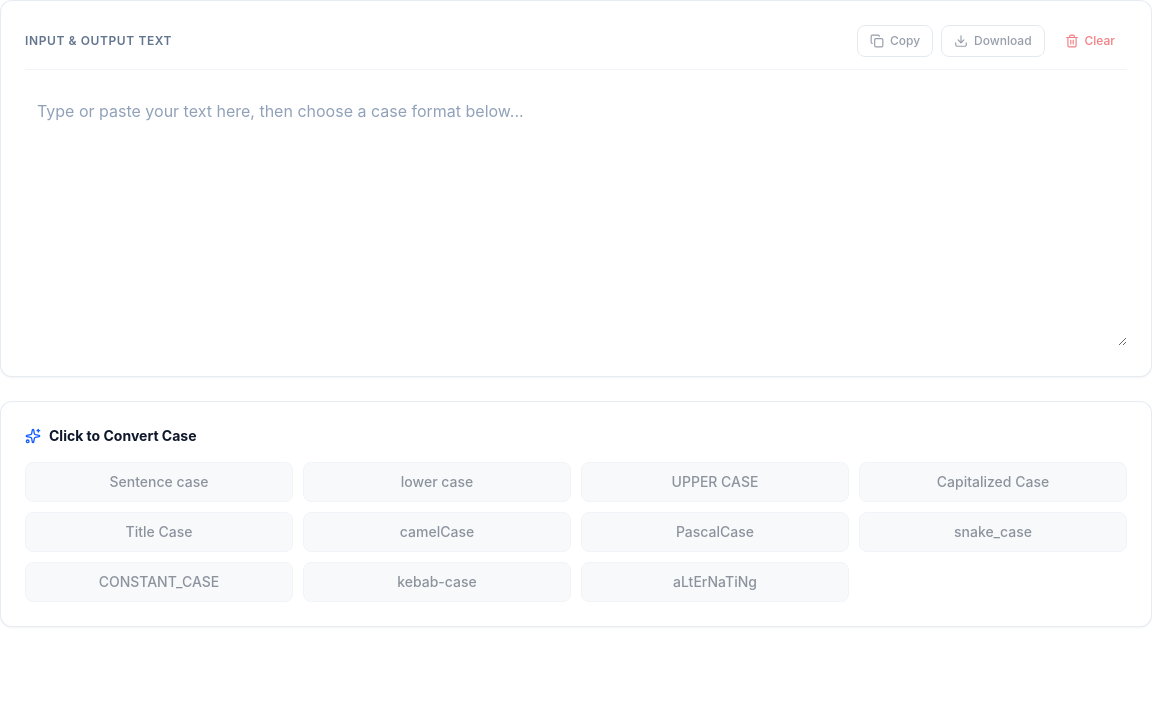
Test: TEXT & DEVELOPER TOOLS (8/8) › Case Converter › normal: converts text through multiple case formats
The image size is (1152, 720).
Replace the text in the text box named "case converter text area" with "hello world from toolbox" at {"x": 576, "y": 216}, box [25,86,1127,346]
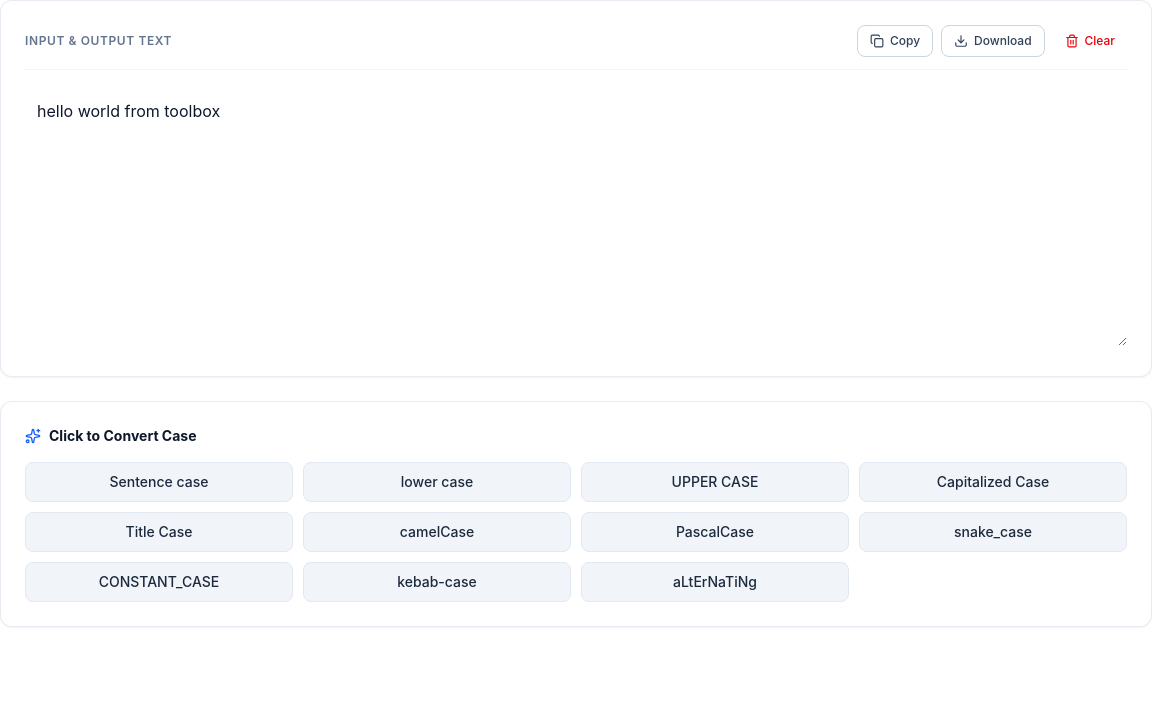
Note: UPPER CASE
Click the button "UPPER CASE".
click(715, 482)  # box [581,462,849,502]
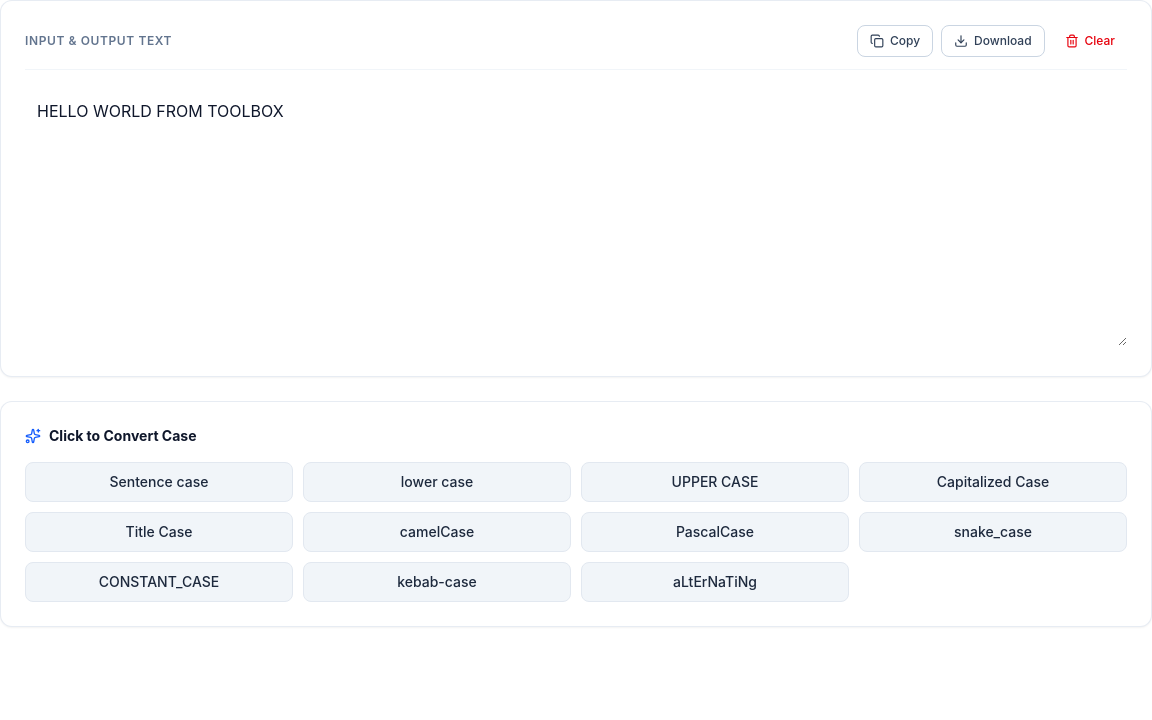
Note: lower case
Click the button "lower case".
click(437, 482)  # box [303,462,571,502]
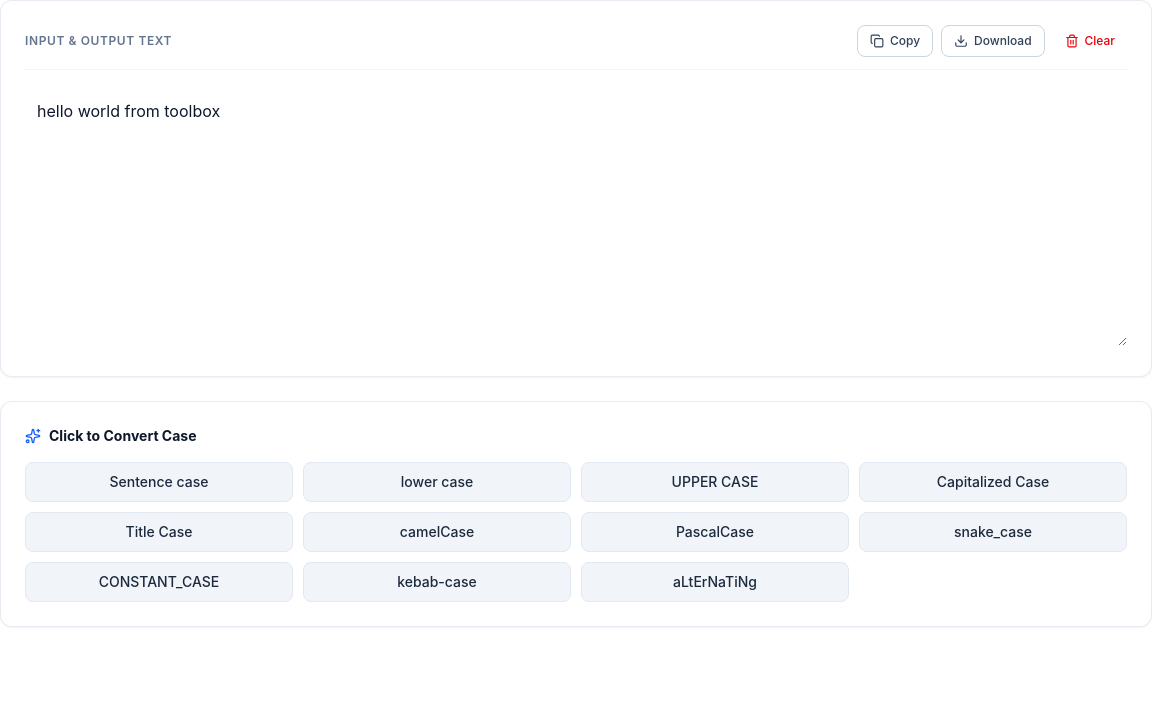
Click the button "kebab-case".
click(437, 582)  # box [303,562,571,602]
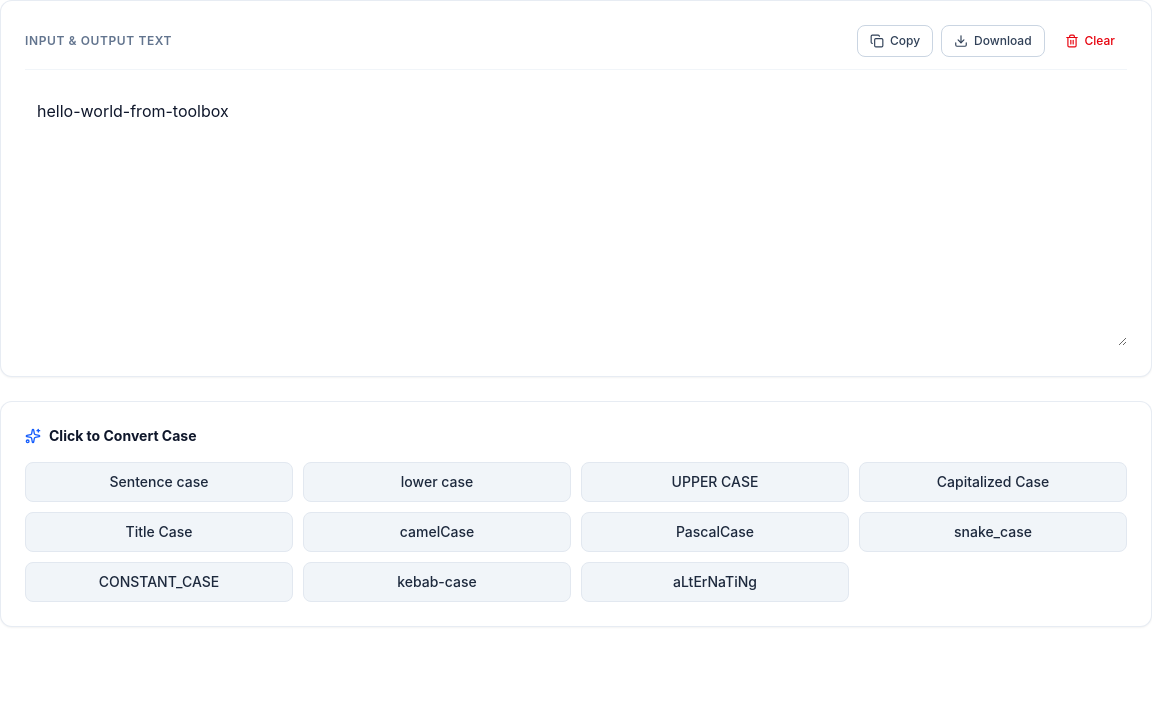
Expected: the text box named "case converter text area" holds "hello-world-from-toolbox", [25,86,1127,346]
Click the button "snake_case".
click(993, 532)  # box [859,512,1127,552]
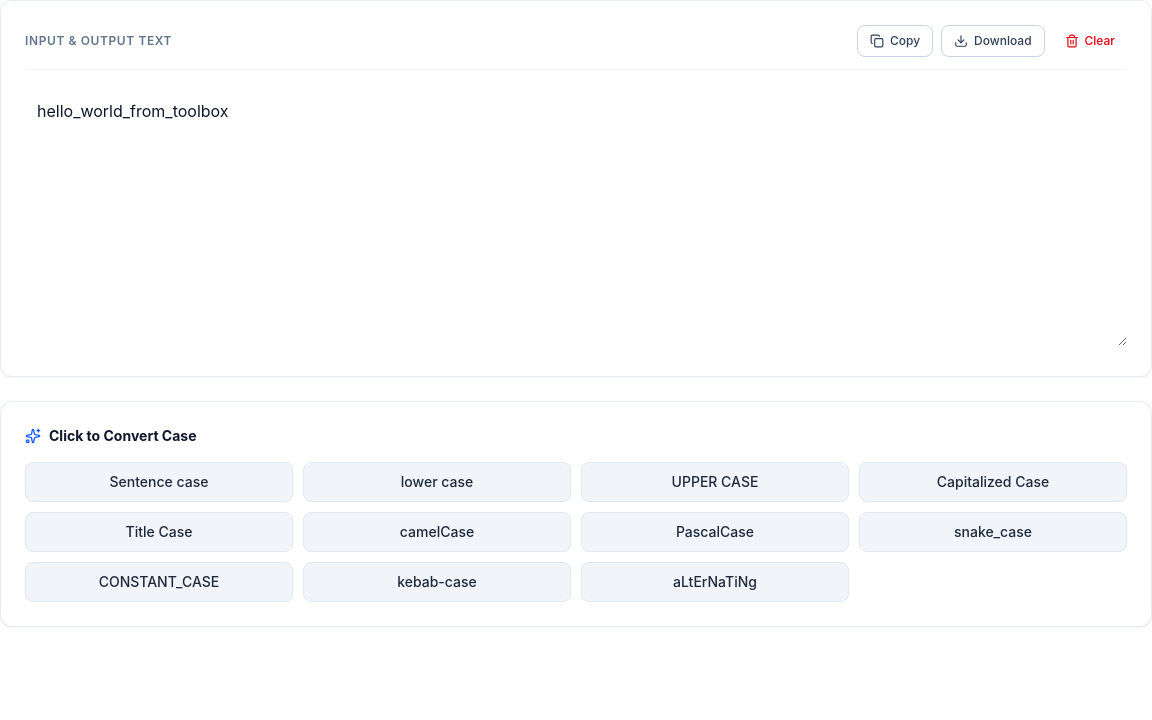
Expected: the text box named "case converter text area" holds "hello_world_from_toolbox", [25,86,1127,346]
